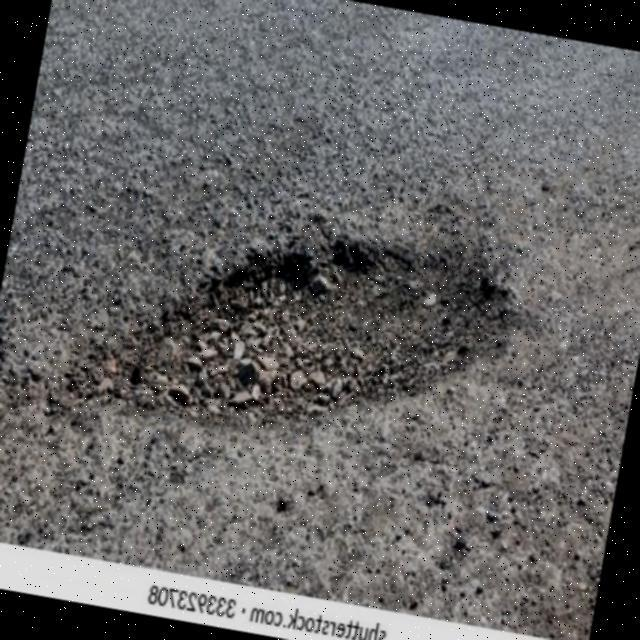Pothole: (105, 237, 509, 426)
